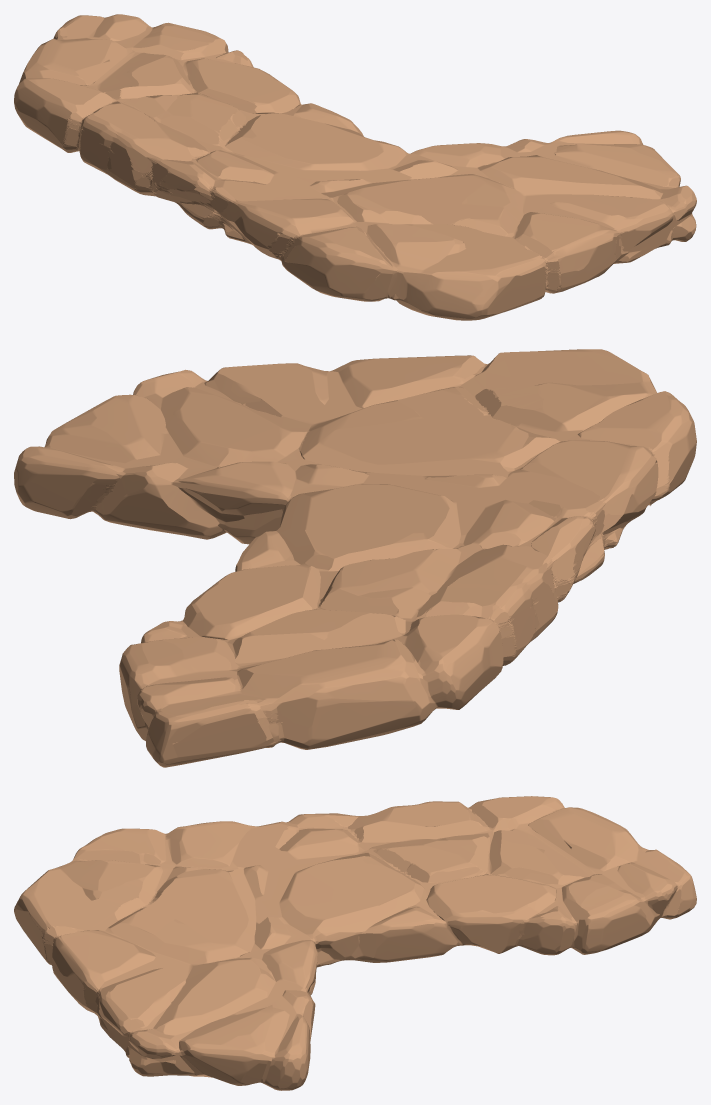
3 views of the same model, one above another, from view 1: azimuth 30°, elevation 25°; view 2: azimuth 150°, elevation 25°; view 3: azimuth 270°, elevation 25° (orthographic). The views are drawn at different scales.
Visible parts, largest first — view 1: Mesh_11_LOD0; view 2: Mesh_11_LOD0; view 3: Mesh_11_LOD0.
Part boxes in pixels (x1,y1,x2,y2): Mesh_11_LOD0: (14, 14, 696, 320); Mesh_11_LOD0: (14, 349, 696, 767); Mesh_11_LOD0: (14, 796, 696, 1090).
Size of what is drawn, in the model's own units: 4285 by 906 by 5872.
